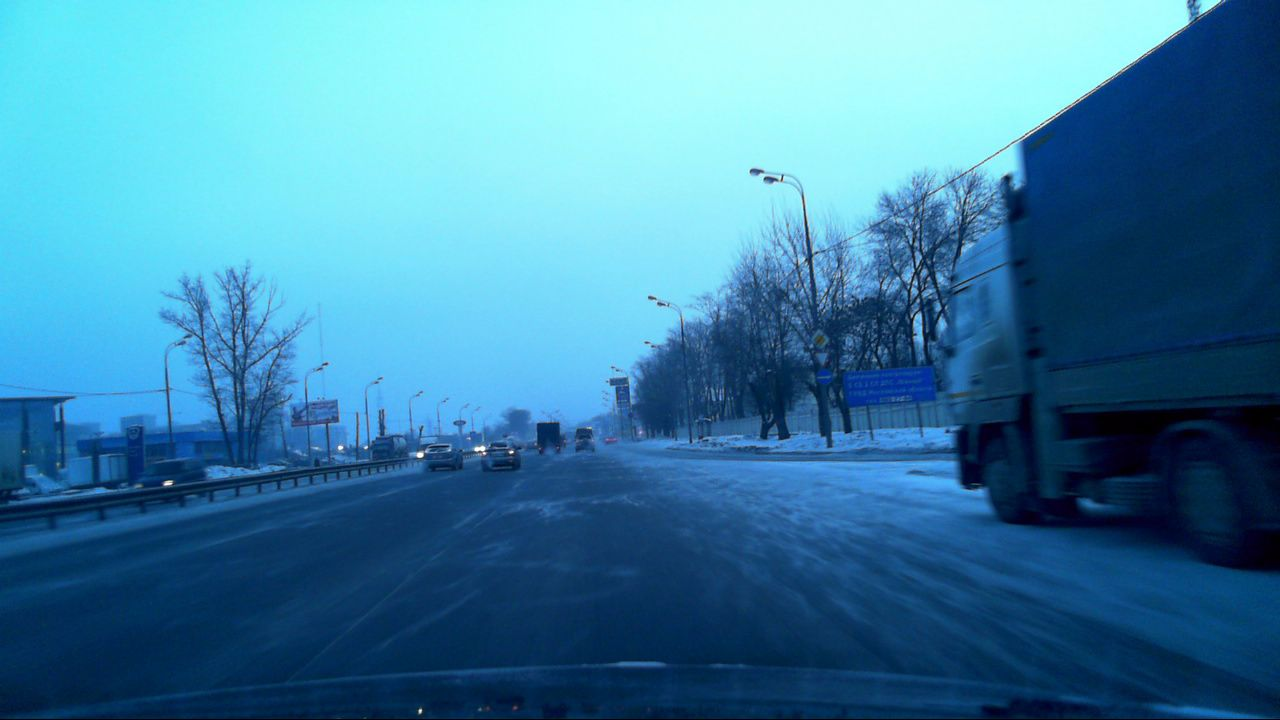main road: (809, 328, 829, 350)
